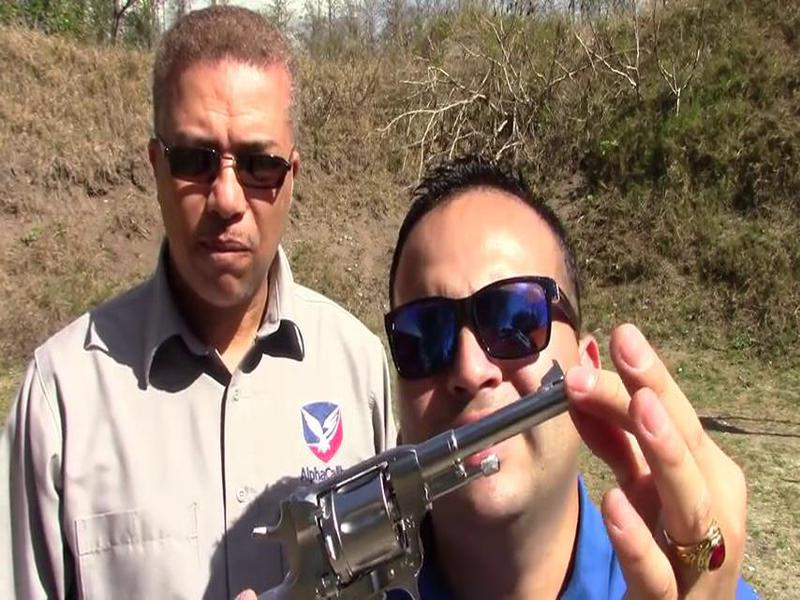Revolver: (232, 360, 578, 600)
